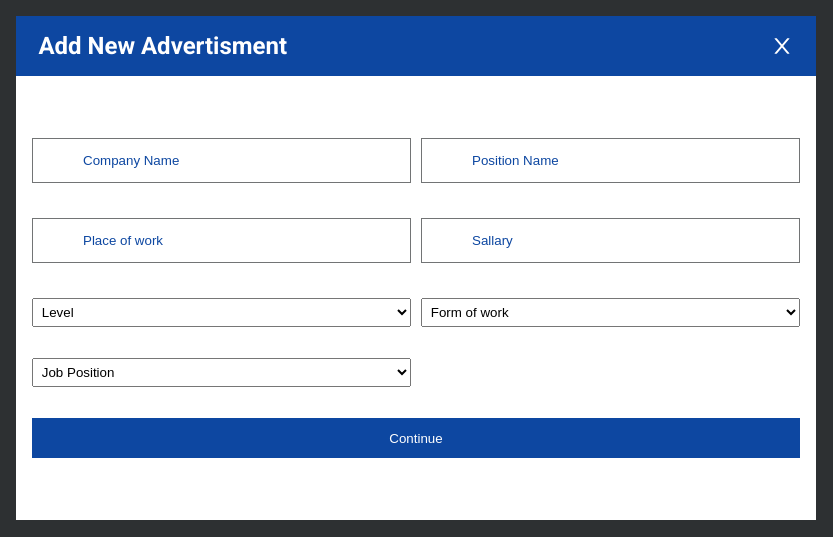
it: Testing add new Advertisment component › It should error validation when form is invalid
The image size is (833, 537).
Click the button at [416, 438], box [32,418,800,458]
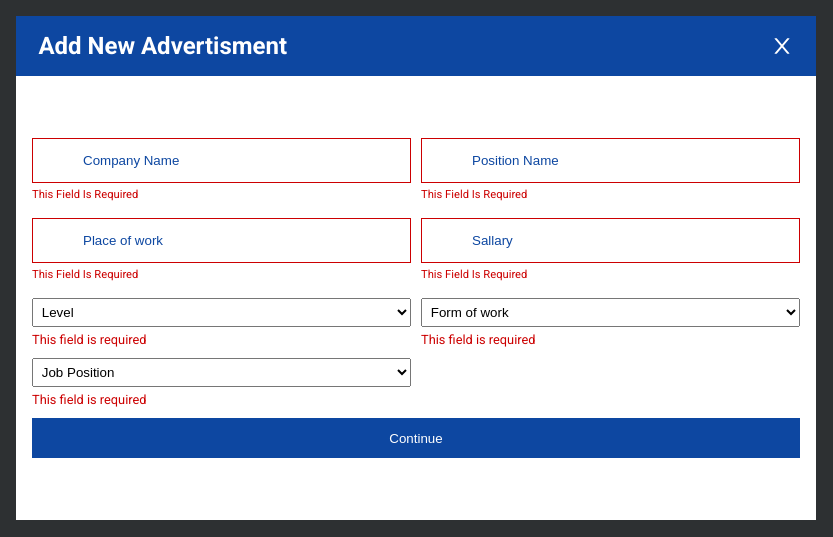
Now the 1st text "This field is required" is shown, box [32,188,138,201]
